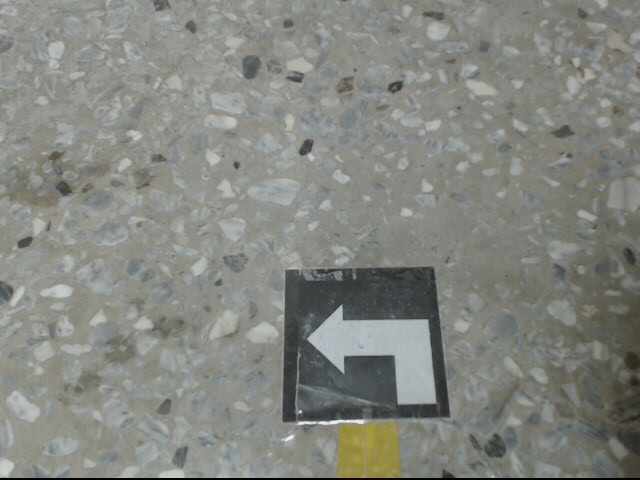left: (283, 264, 454, 420)
